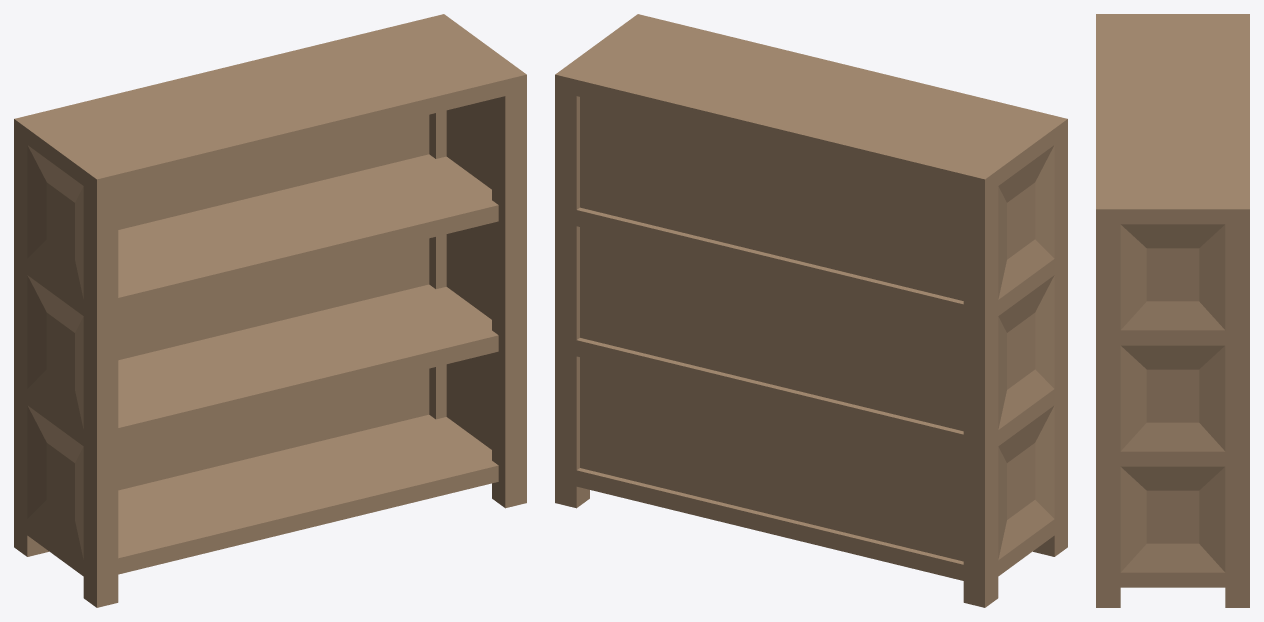
File: shoe_cabinet.glb
The picture shows the model from 3 angles, left to right: view 1: azimuth 30°, elevation 25°; view 2: azimuth 150°, elevation 25°; view 3: azimuth 270°, elevation 25°; orthographic projection. The views are drawn at different scales.
Parts seen in each view (by area): view 1: bookcaseClosedWide(Clone); view 2: bookcaseClosedWide(Clone); view 3: bookcaseClosedWide(Clone).
Part boxes in pixels (box(x1,y1,x2,y2)): bookcaseClosedWide(Clone): box(14, 14, 526, 607); bookcaseClosedWide(Clone): box(555, 14, 1067, 607); bookcaseClosedWide(Clone): box(1096, 14, 1249, 607).
Size of the model in its own units: 1.05 by 1 by 0.35.
